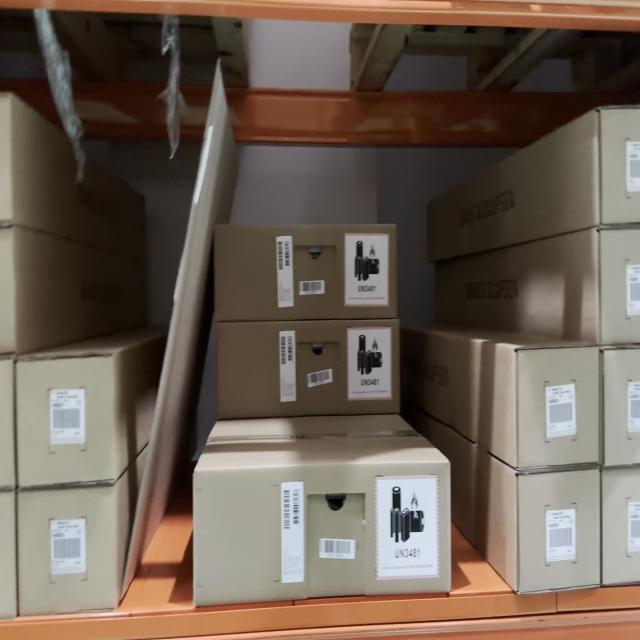box: (195, 462, 450, 593), (215, 227, 396, 317), (218, 323, 397, 414), (19, 356, 112, 482), (17, 491, 116, 609), (518, 471, 600, 586), (518, 349, 598, 462)
